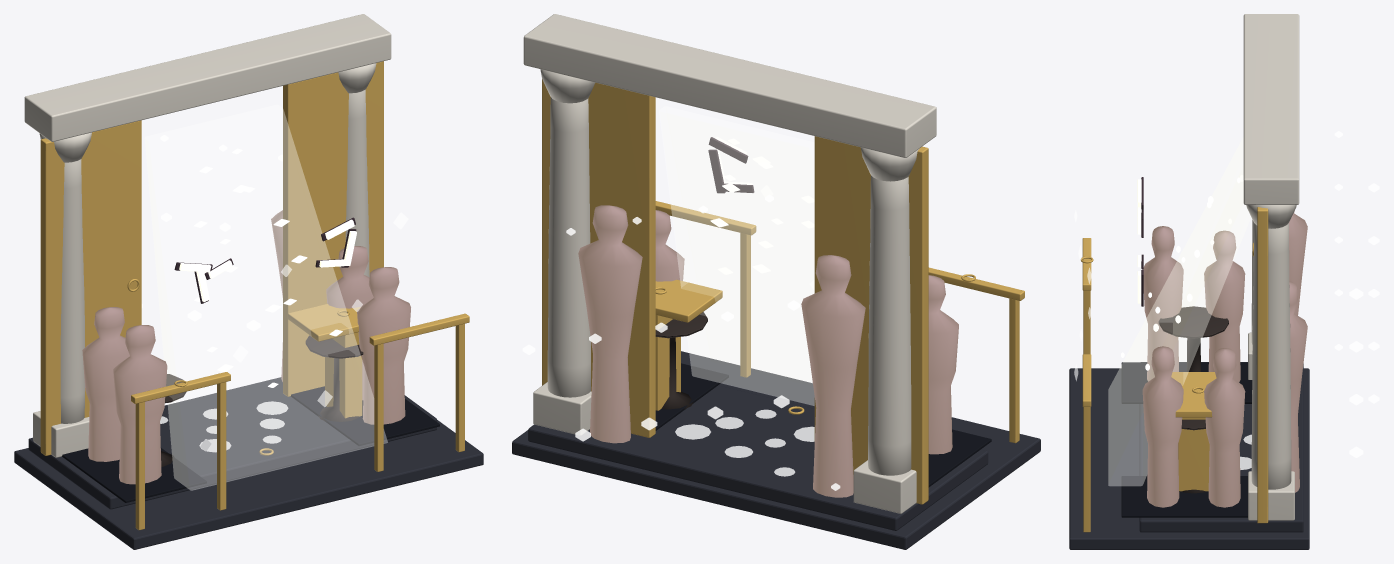
File: webtoon-weather-rofan-blossom-snow-65pct-v24.glb
3 renders of one model, left to right at view 1: azimuth 30°, elevation 25°; view 2: azimuth 150°, elevation 25°; view 3: azimuth 270°, elevation 25°, orthographic. The views are drawn at different scales.
Visible parts, largest first — view 1: Volumetric_V24Beat2_Snow_GodRaySlit, Articulated_V24Beat2_Snow_DoorsAndIkRig, V24Beat2_Snow_DatumDeck, V24Beat2_Snow_PortalColonnade, DatumCrowd_V24Beat2_Snow_Silhouettes, ShadowDrift_V24Beat2_Snow_UmbraMask, DatumCrowd_V24Beat2_Snow_Tables074m, ZDepthSFX_V24Beat2_Snow_GlyphCore, Weather_V24Beat2_Snow_IndoorWetRipples, Atmospheric_V24Beat2_Snow_MidMotes, Atmospheric_V24Beat2_Snow_FgBokehLayer; view 2: V24Beat2_Snow_PortalColonnade, Articulated_V24Beat2_Snow_DoorsAndIkRig, Volumetric_V24Beat2_Snow_GodRaySlit, V24Beat2_Snow_DatumDeck, DatumCrowd_V24Beat2_Snow_Silhouettes, ShadowDrift_V24Beat2_Snow_UmbraMask, Weather_V24Beat2_Snow_IndoorWetRipples, DatumCrowd_V24Beat2_Snow_Tables074m, Weather_V24Beat2_Snow_ExteriorOccluded, ZDepthSFX_V24Beat2_Snow_ShadowPlate, Atmospheric_V24Beat2_Snow_MidMotes; view 3: DatumCrowd_V24Beat2_Snow_Silhouettes, V24Beat2_Snow_PortalColonnade, V24Beat2_Snow_DatumDeck, Volumetric_V24Beat2_Snow_GodRaySlit, Articulated_V24Beat2_Snow_DoorsAndIkRig, ShadowDrift_V24Beat2_Snow_UmbraMask, DatumCrowd_V24Beat2_Snow_Tables074m, Weather_V24Beat2_Snow_ExteriorOccluded, ZDepthSFX_V24Beat2_Snow_GlyphCore, Atmospheric_V24Beat2_Snow_MidMotes.
Boxes of the visible parts, <box> form: Volumetric_V24Beat2_Snow_GodRaySlit: <box>145,105,387,490</box>; Articulated_V24Beat2_Snow_DoorsAndIkRig: <box>40,61,469,530</box>; V24Beat2_Snow_DatumDeck: <box>14,377,483,549</box>; V24Beat2_Snow_PortalColonnade: <box>24,14,391,457</box>; DatumCrowd_V24Beat2_Snow_Silhouettes: <box>82,210,410,484</box>; ShadowDrift_V24Beat2_Snow_UmbraMask: <box>62,386,439,502</box>; DatumCrowd_V24Beat2_Snow_Tables074m: <box>161,335,363,466</box>; ZDepthSFX_V24Beat2_Snow_GlyphCore: <box>179,219,356,302</box>; Weather_V24Beat2_Snow_IndoorWetRipples: <box>160,401,288,452</box>; Atmospheric_V24Beat2_Snow_MidMotes: <box>194,148,342,387</box>; Atmospheric_V24Beat2_Snow_FgBokehLayer: <box>200,212,408,451</box>; V24Beat2_Snow_PortalColonnade: <box>523,14,936,513</box>; Articulated_V24Beat2_Snow_DoorsAndIkRig: <box>542,79,1024,504</box>; Volumetric_V24Beat2_Snow_GodRaySlit: <box>659,106,814,405</box>; V24Beat2_Snow_DatumDeck: <box>512,351,1040,549</box>; DatumCrowd_V24Beat2_Snow_Silhouettes: <box>578,205,958,497</box>; ShadowDrift_V24Beat2_Snow_UmbraMask: <box>655,363,991,487</box>; Weather_V24Beat2_Snow_IndoorWetRipples: <box>675,409,814,476</box>; DatumCrowd_V24Beat2_Snow_Tables074m: <box>655,312,707,409</box>; Weather_V24Beat2_Snow_ExteriorOccluded: <box>522,194,840,490</box>; ZDepthSFX_V24Beat2_Snow_ShadowPlate: <box>708,137,754,193</box>; Atmospheric_V24Beat2_Snow_MidMotes: <box>710,138,814,274</box>; DatumCrowd_V24Beat2_Snow_Silhouettes: <box>1142,211,1307,507</box>; V24Beat2_Snow_PortalColonnade: <box>1243,14,1299,520</box>; V24Beat2_Snow_DatumDeck: <box>1069,362,1309,549</box>; Volumetric_V24Beat2_Snow_GodRaySlit: <box>1108,137,1250,485</box>; Articulated_V24Beat2_Snow_DoorsAndIkRig: <box>1080,207,1268,532</box>; ShadowDrift_V24Beat2_Snow_UmbraMask: <box>1121,362,1252,517</box>; DatumCrowd_V24Beat2_Snow_Tables074m: <box>1158,306,1228,493</box>; Weather_V24Beat2_Snow_ExteriorOccluded: <box>1334,131,1379,457</box>; ZDepthSFX_V24Beat2_Snow_GlyphCore: <box>1137,179,1141,303</box>; Atmospheric_V24Beat2_Snow_MidMotes: <box>1121,175,1243,370</box>.
Bounding box in the file's own units: 2.76 × 2.78 × 2.12.
